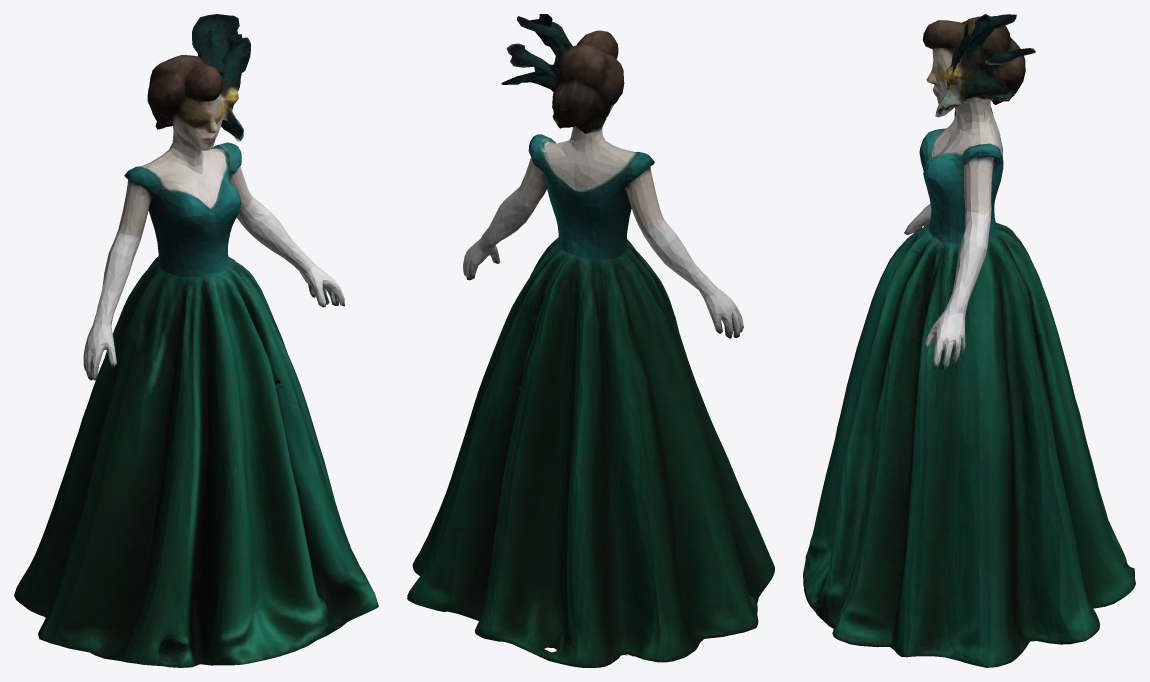
File: dancer_lady.glb
3 renders of one model, left to right at view 1: azimuth 30°, elevation 25°; view 2: azimuth 150°, elevation 25°; view 3: azimuth 270°, elevation 25°, orthographic. The views are drawn at different scales.
Parts seen in each view (by area): view 1: geometry_0; view 2: geometry_0; view 3: geometry_0.
Part boxes in pixels (<box>): geometry_0: <box>14,14,378,667</box>; geometry_0: <box>407,14,774,667</box>; geometry_0: <box>803,14,1135,667</box>.
Size of the model in its own units: 0.5948 by 1 by 0.5122.
1 material, 1 textured.
